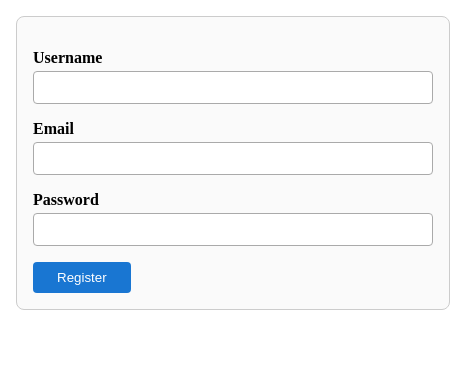
Test case: RegisterForm › shows validation errors for empty fields
Click the button "Register". click: (82, 278)
box: [33, 262, 131, 293]
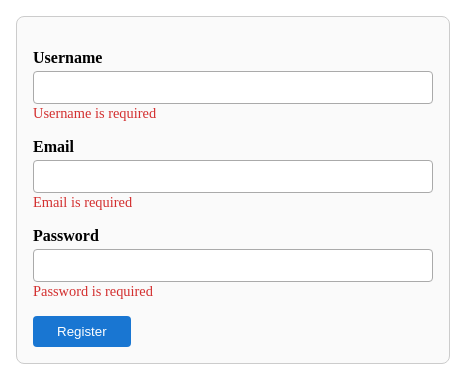
Expected: the text "Username is required" is shown, [33, 105, 156, 121]
Expected: the text "Email is required" is shown, [33, 194, 132, 210]
Expected: the text "Password is required" is shown, [33, 283, 153, 299]
